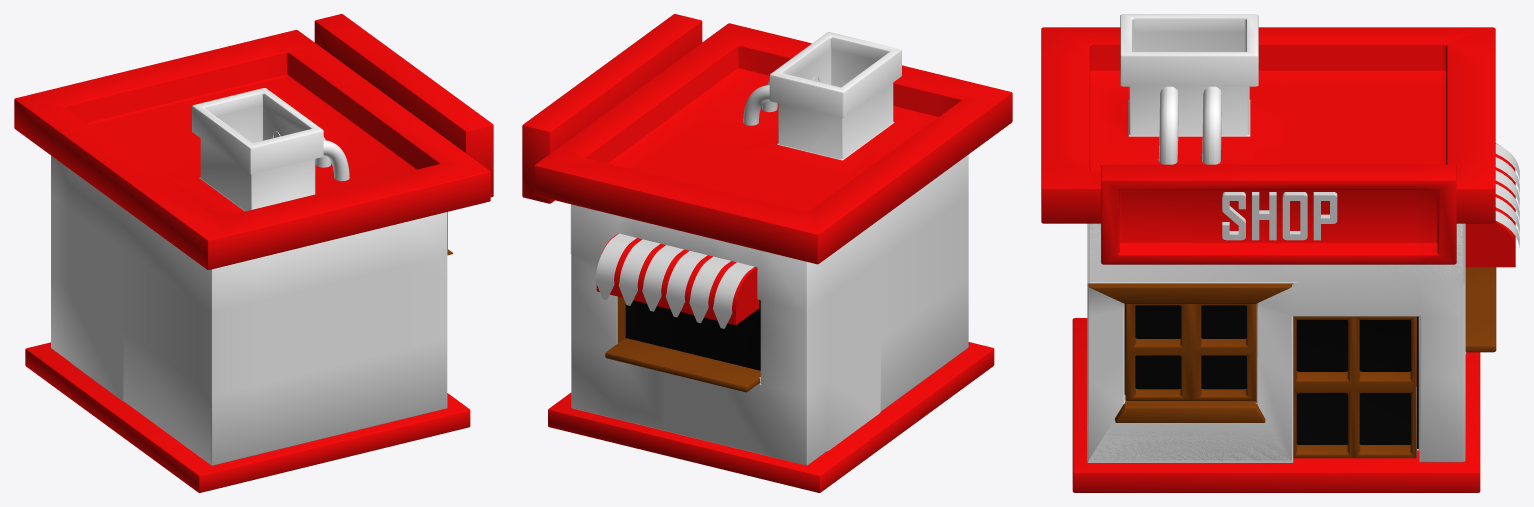
The model's file is shoplittle.fbx.
The picture shows the model from 3 angles, left to right: view 1: azimuth 30°, elevation 25°; view 2: azimuth 150°, elevation 25°; view 3: azimuth 270°, elevation 25°; orthographic projection. The views are drawn at different scales.
Parts seen in each view (by area): view 1: shoplittle; view 2: shoplittle; view 3: shoplittle.
Boxes of the visible parts, <box> form: shoplittle: <box>14,14,493,492</box>; shoplittle: <box>522,14,1012,492</box>; shoplittle: <box>1041,14,1519,492</box>.
Size of the model in its own units: 742 by 711 by 842.
